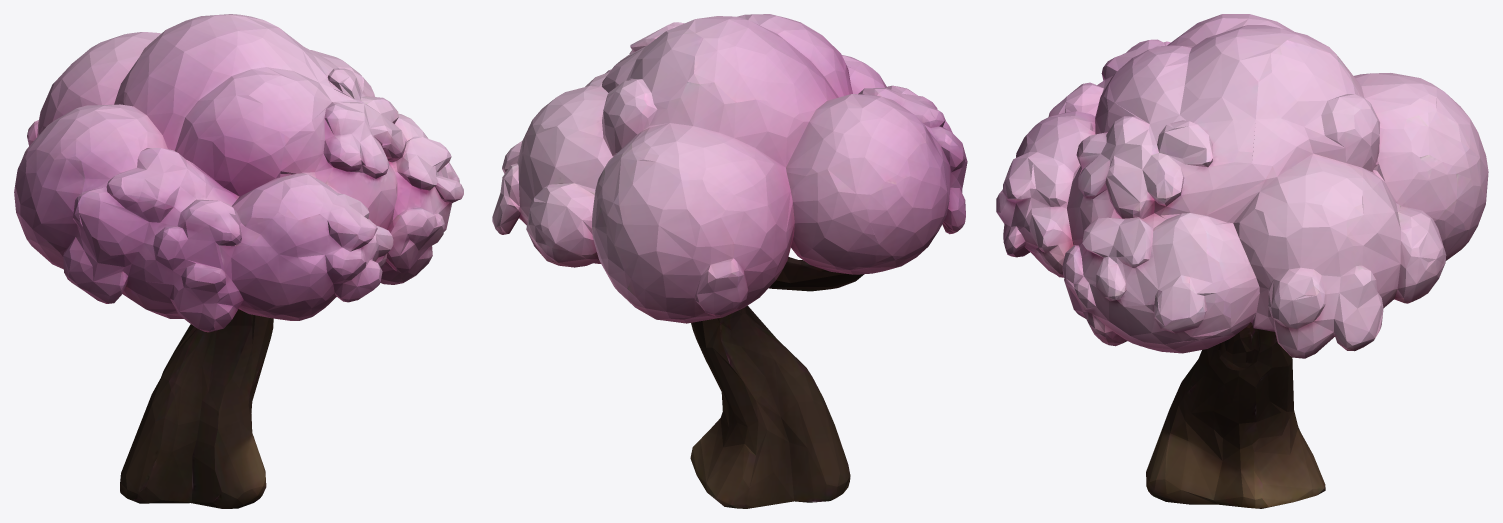
Rendered from tree_cherry.glb.
3 renders of one model, left to right at view 1: azimuth 30°, elevation 25°; view 2: azimuth 150°, elevation 25°; view 3: azimuth 270°, elevation 25°, orthographic. The views are drawn at different scales.
Parts seen in each view (by area): view 1: geometry_0; view 2: geometry_0; view 3: geometry_0.
Boxes of the visible parts, bbox=[...] form: geometry_0: bbox=[14, 14, 463, 508]; geometry_0: bbox=[492, 14, 967, 508]; geometry_0: bbox=[996, 14, 1488, 508].
Size of the model in its own units: 0.9448 by 0.9978 by 0.9361.
1 material, 1 textured.
